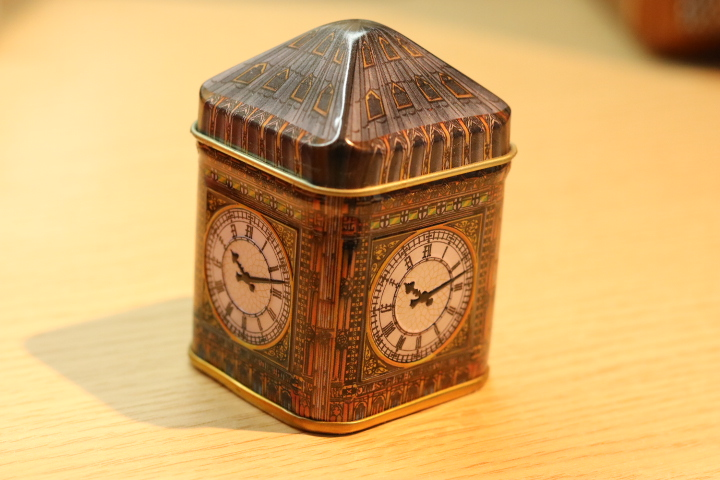Big Ben: (182, 17, 524, 440)
